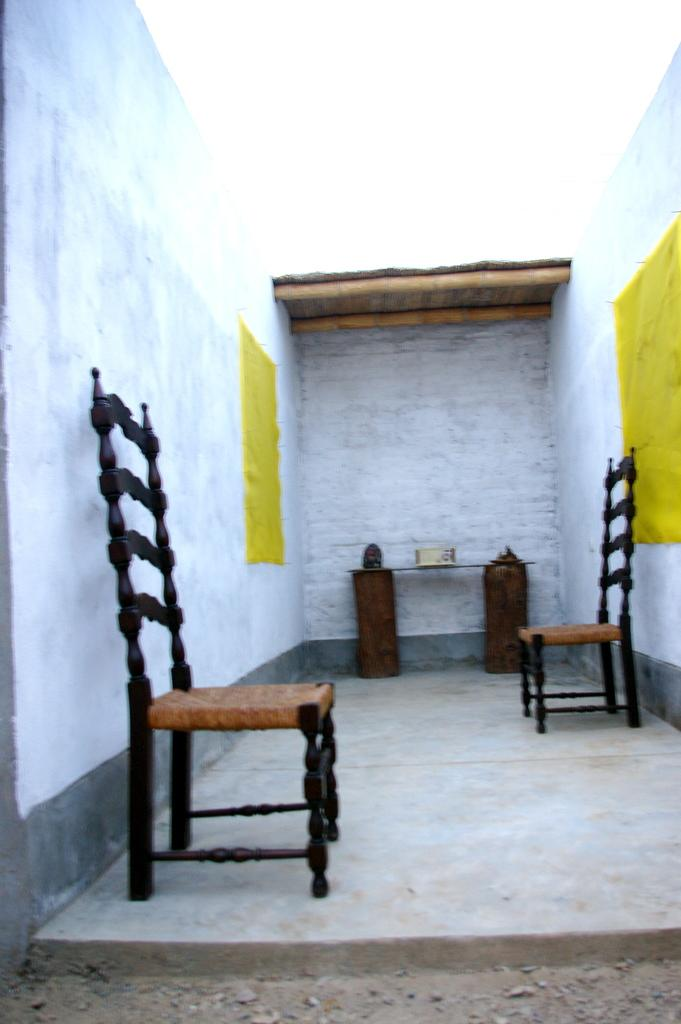Chair: (88, 365, 341, 906), (516, 452, 642, 722)
